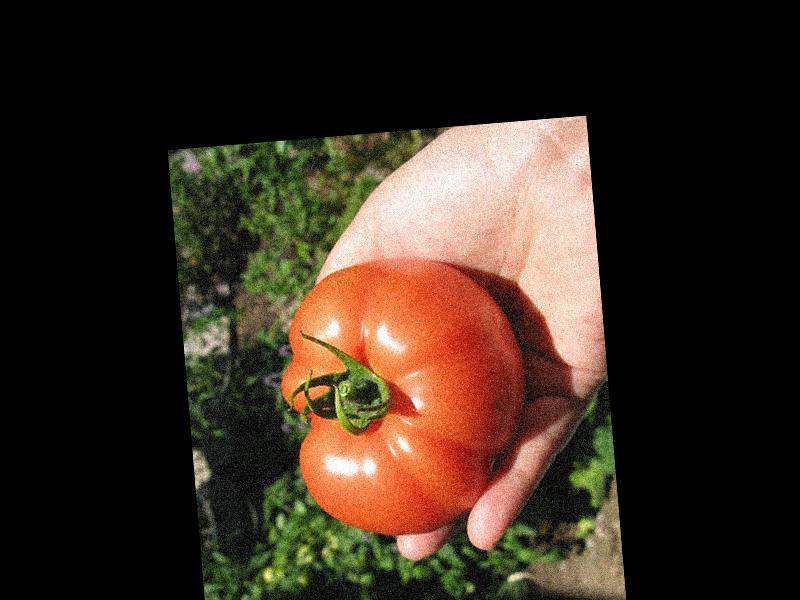Tomato: (272, 251, 532, 544)
